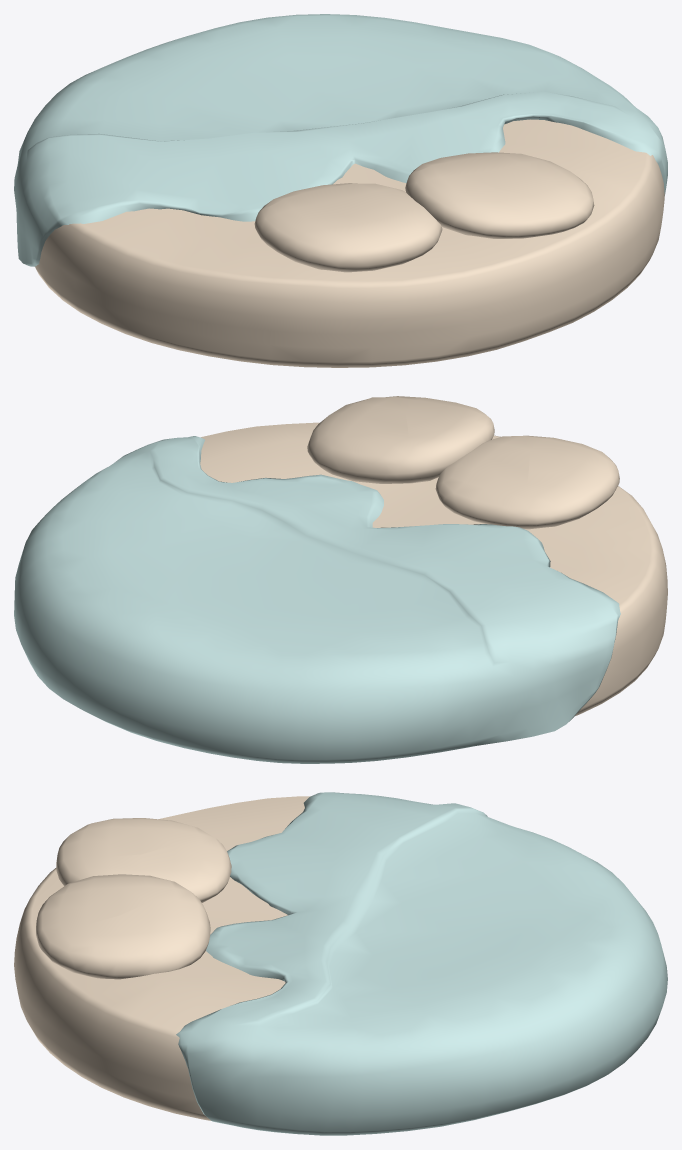
Rendered from SM_Bed_02.fbx.
3 views of the same model, one above another, from view 1: azimuth 30°, elevation 25°; view 2: azimuth 150°, elevation 25°; view 3: azimuth 270°, elevation 25° (orthographic). The views are drawn at different scales.
Parts seen in each view (by area): view 1: SM_Bed_02; view 2: SM_Bed_02; view 3: SM_Bed_02.
Boxes of the visible parts, left/top/right/bottom form: SM_Bed_02: left=14, top=14, right=667, bottom=367; SM_Bed_02: left=14, top=396, right=667, bottom=763; SM_Bed_02: left=14, top=792, right=667, bottom=1135.
Bounding box in the file's own units: 347 × 75.16 × 354.
